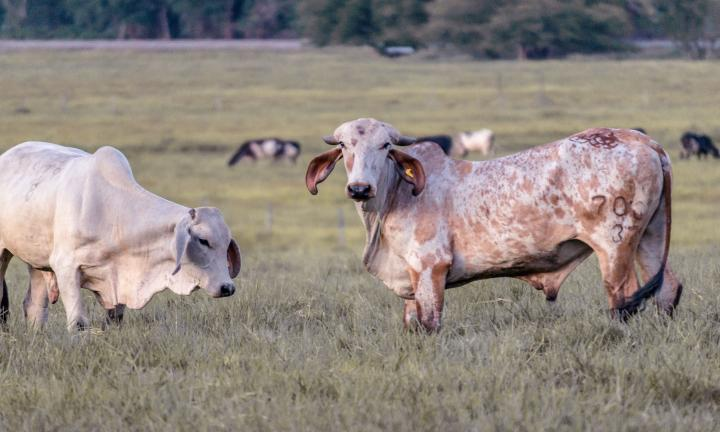Brahman: (306, 118, 682, 329), (0, 142, 241, 330)
